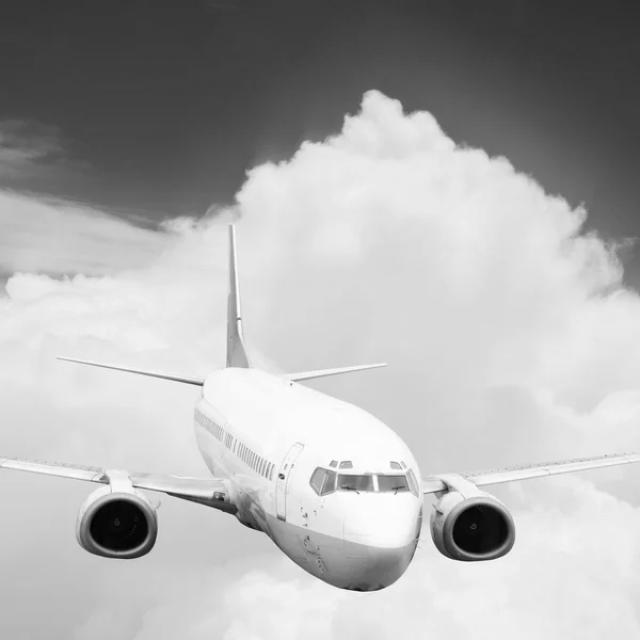Aircraft: (2, 225, 640, 591)
